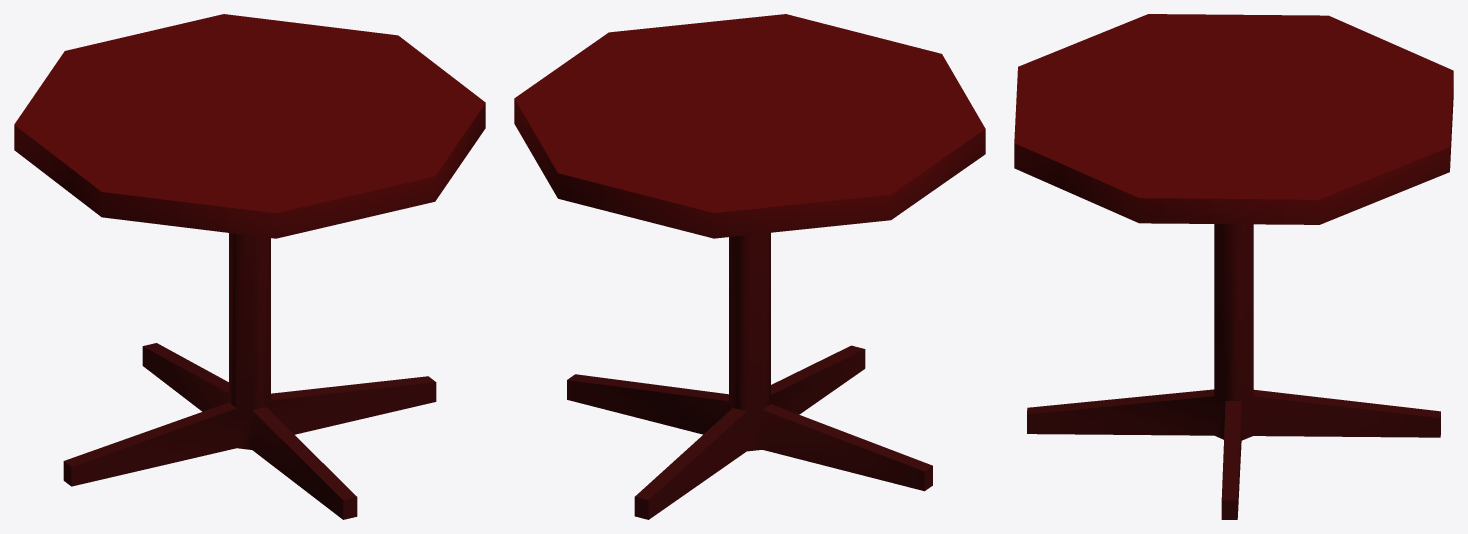
Rendered from CafeTable.glb.
3 views of the same model, side by side, from view 1: azimuth 30°, elevation 25°; view 2: azimuth 150°, elevation 25°; view 3: azimuth 270°, elevation 25° (orthographic).
Parts seen in each view (by area): view 1: CafeTable; view 2: CafeTable; view 3: CafeTable.
Boxes of the visible parts, x1=… form: CafeTable: x1=14, y1=14, x2=485, y2=519; CafeTable: x1=514, y1=14, x2=985, y2=519; CafeTable: x1=1014, y1=14, x2=1453, y2=519.
Size of the model in its own units: 4.37 by 3.58 by 4.37.
